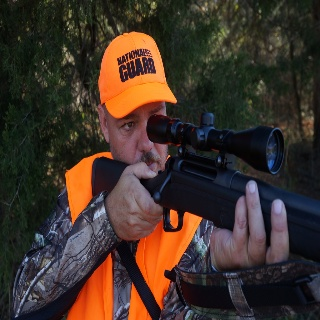rifle: (88, 109, 320, 264)
